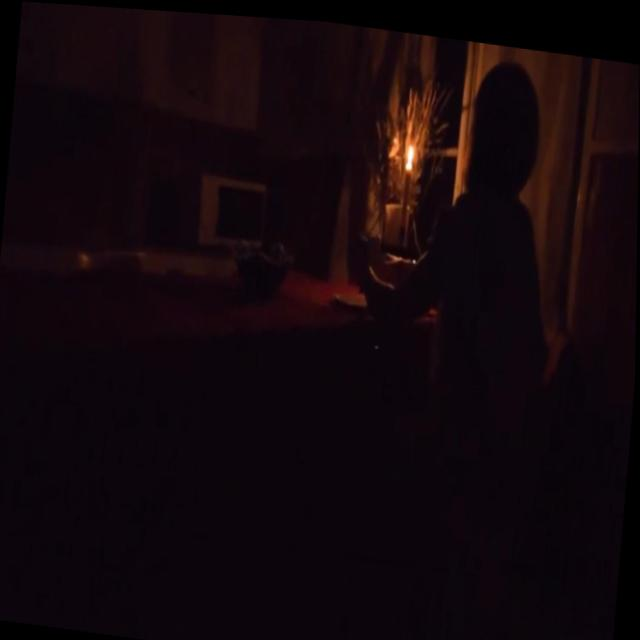fire: (402, 133, 418, 164)
